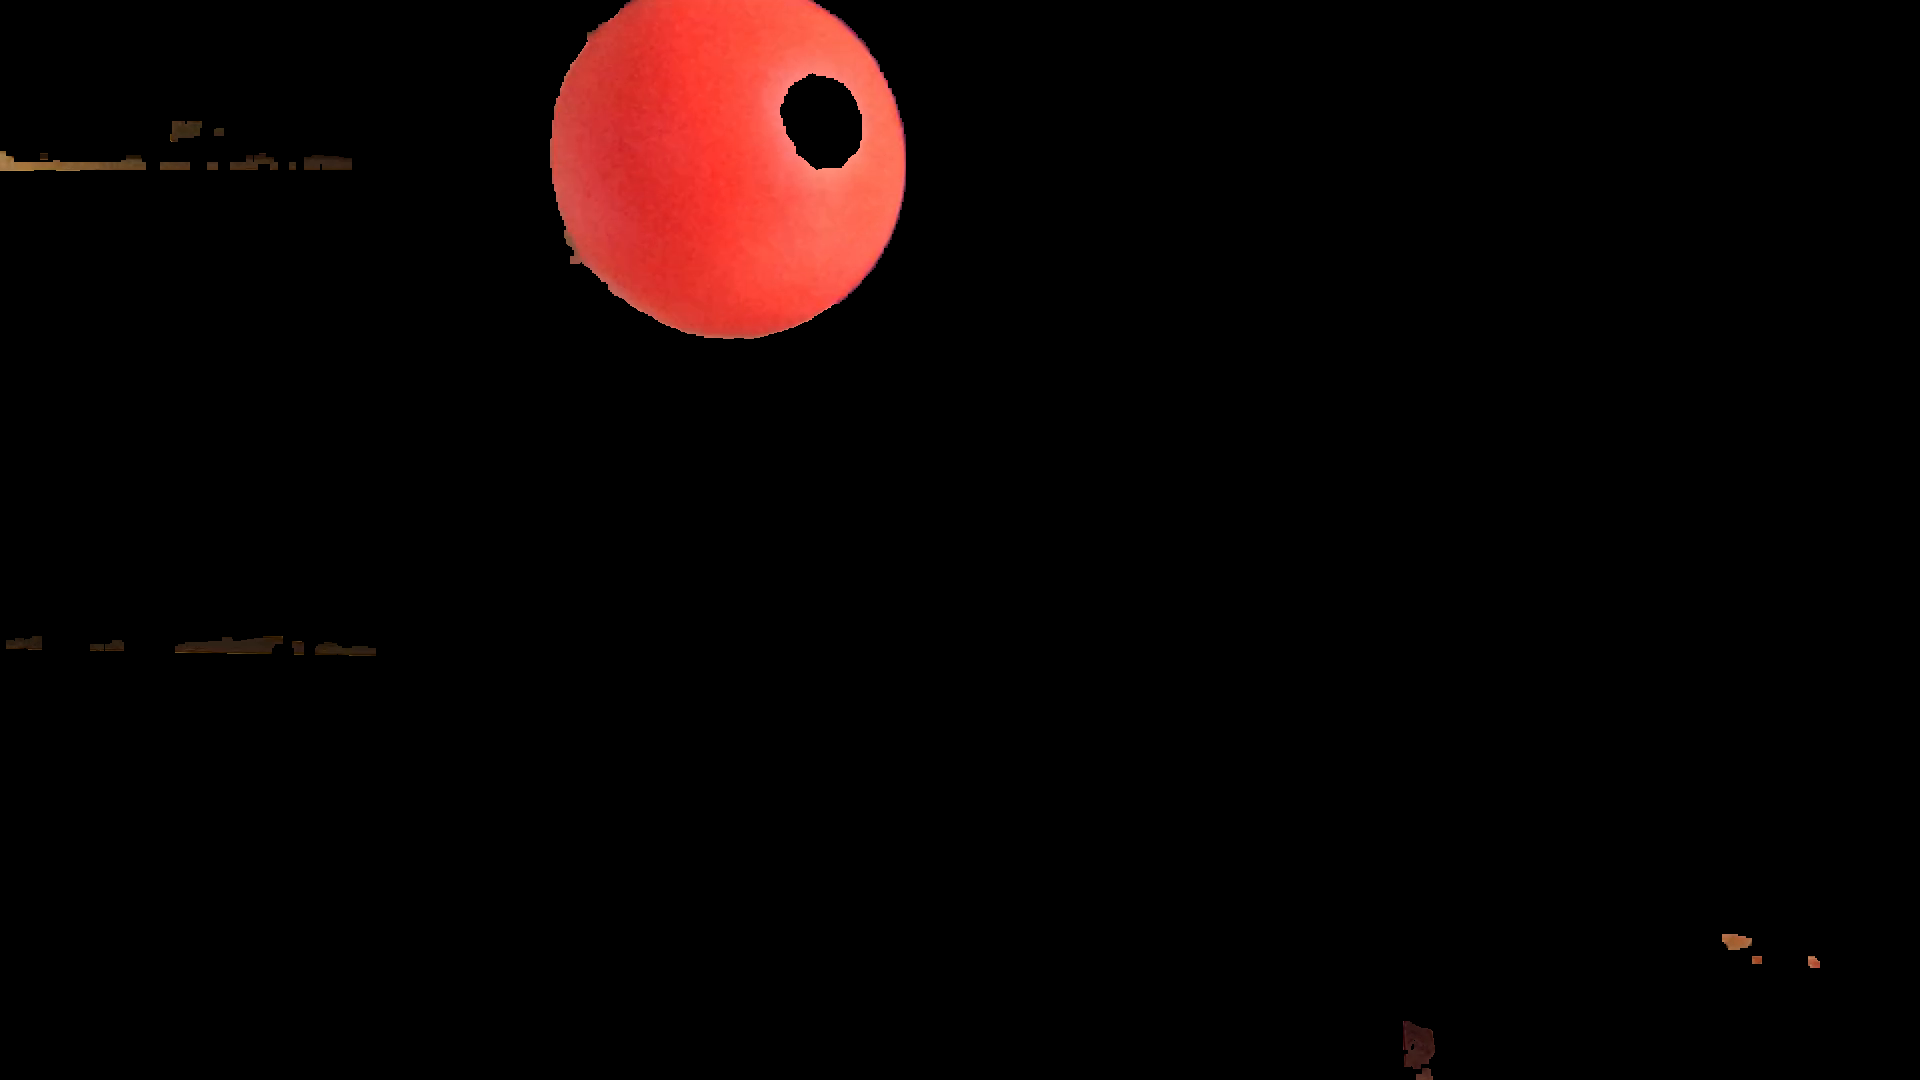Ball: (560, 1, 905, 338)
